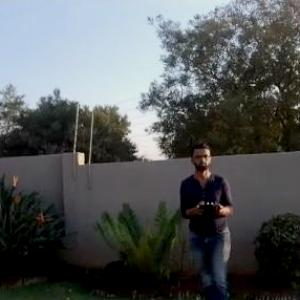follow: (178, 133, 244, 299)
